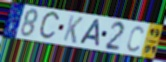2: (104, 21, 126, 53)
8: (19, 8, 40, 38)
A: (78, 18, 101, 49)
C: (37, 10, 61, 42), (126, 25, 145, 53)
K: (62, 14, 85, 45)
